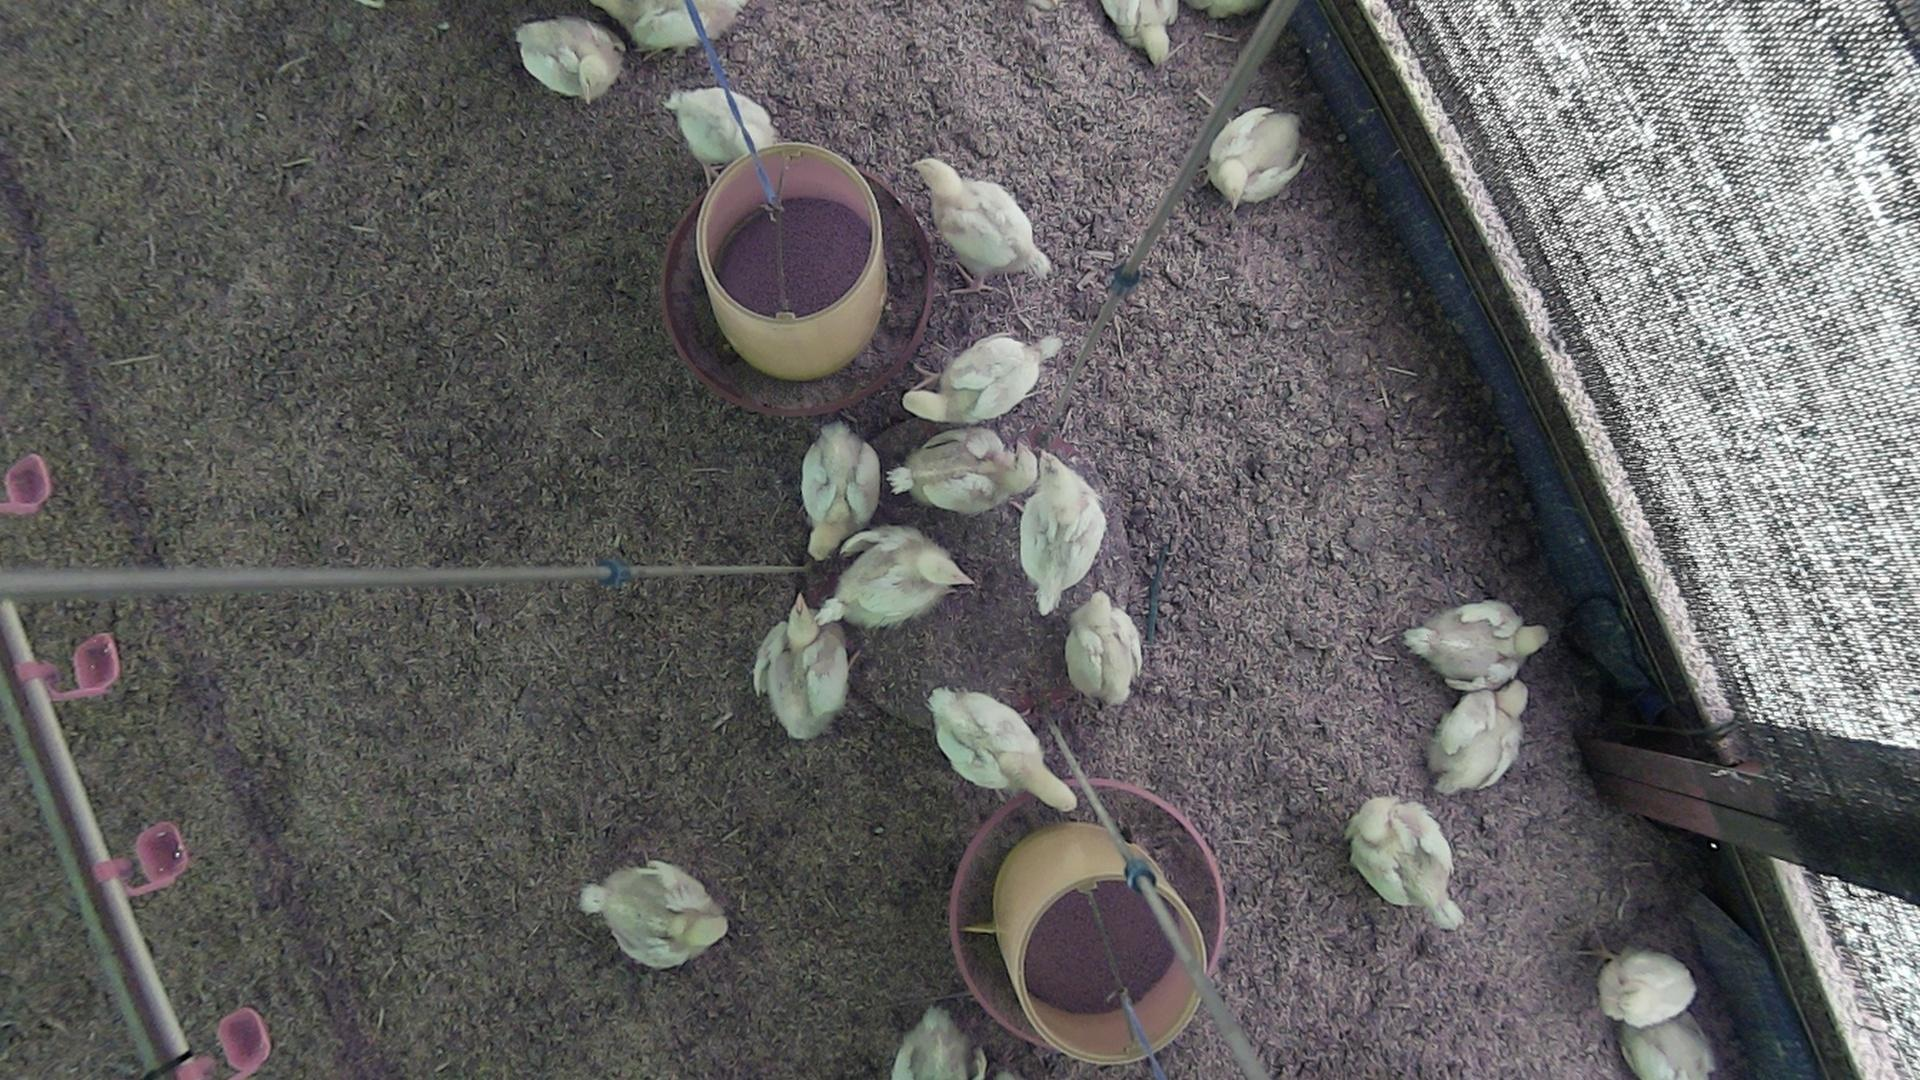ayam_broiler: (927, 688, 1076, 812), (916, 157, 1050, 280), (580, 861, 728, 967), (823, 526, 971, 629), (1350, 795, 1462, 928), (752, 593, 851, 740), (901, 331, 1055, 425), (1019, 456, 1106, 615), (889, 423, 1038, 514), (1406, 600, 1548, 686), (802, 421, 881, 559), (1429, 679, 1526, 793), (1208, 107, 1303, 206), (1065, 588, 1142, 707), (517, 18, 624, 102), (667, 87, 775, 162), (1600, 951, 1696, 1026), (891, 1006, 976, 1080), (1623, 1018, 1713, 1080), (1104, 0, 1179, 65)
